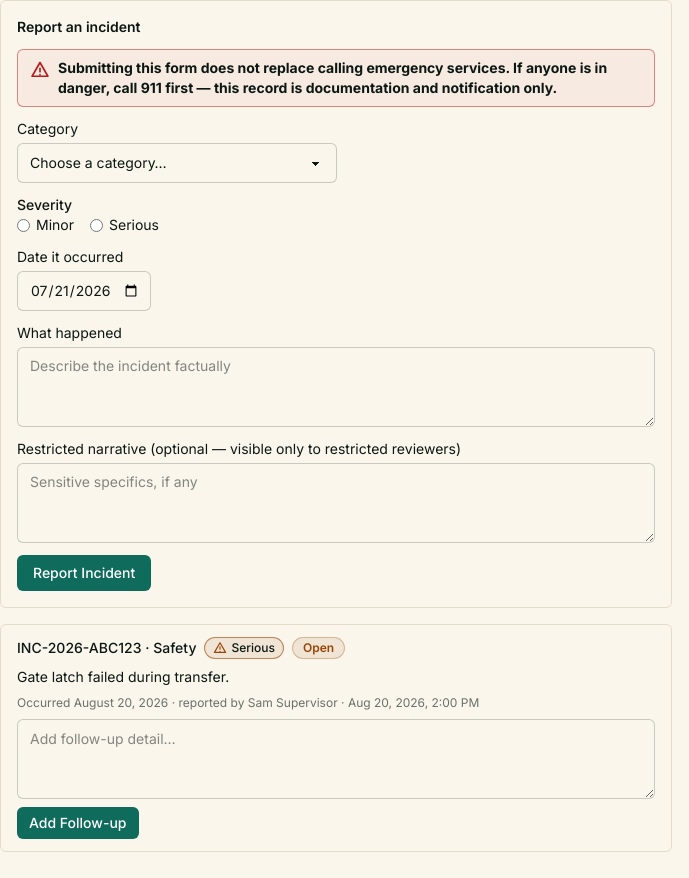
Test case: IncidentsTab (Story 5.11) › requires the extra confirmation for Serious severity before submit arms (AC1/UX)
Click the radio button labelled "Minor" at (24, 225), box [17, 218, 30, 232]
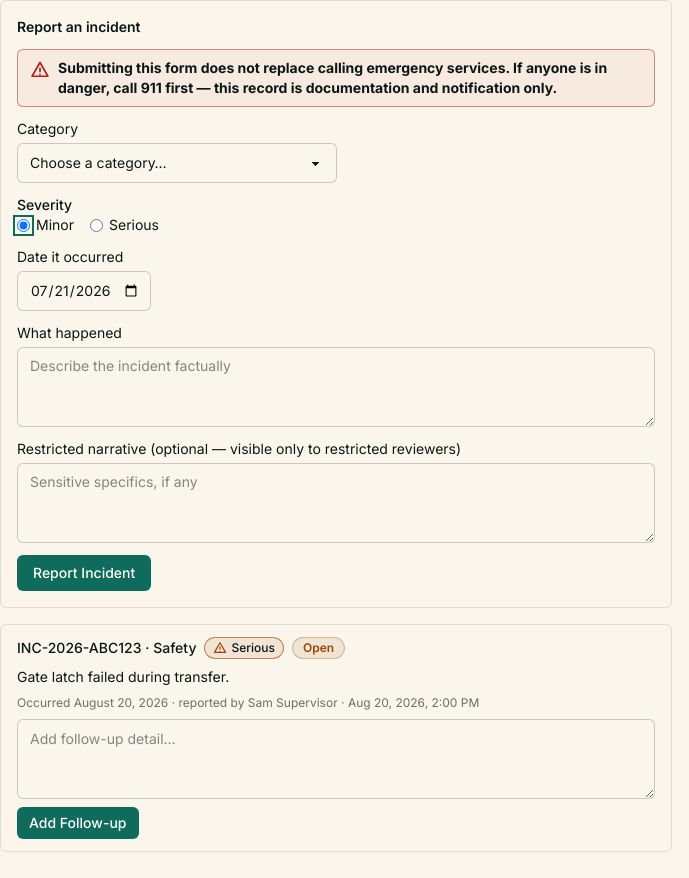
expect the button "Report Incident" is enabled: met, box [17, 555, 151, 591]
Click the radio button labelled "Serious" at (96, 225), box [90, 218, 103, 232]
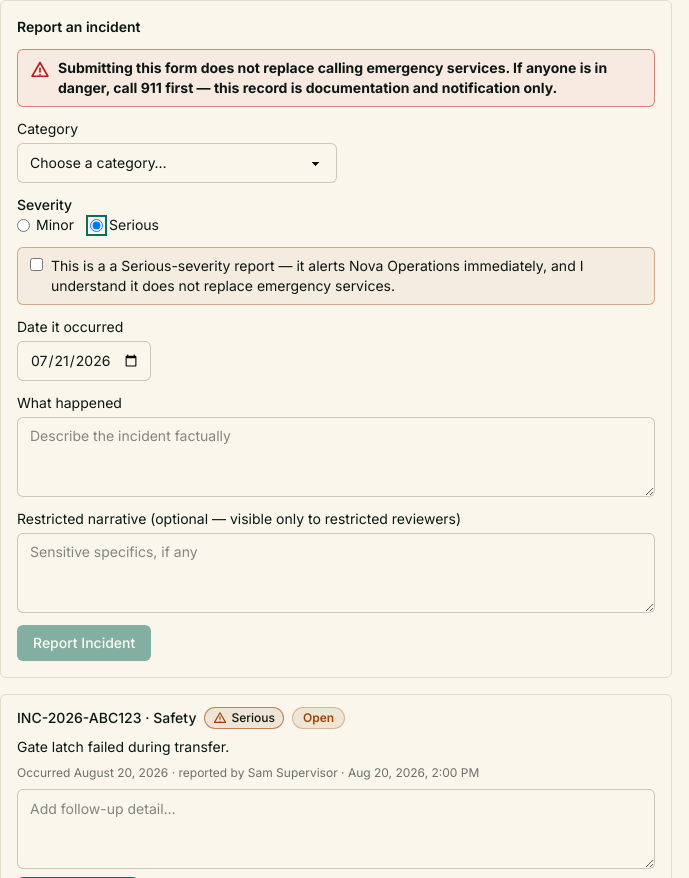
expect the button "Report Incident" is disabled: met, box [17, 625, 151, 661]
Click the checkbox labelled "alerts Nova Operations immediately" at (36, 264), box [30, 258, 43, 271]
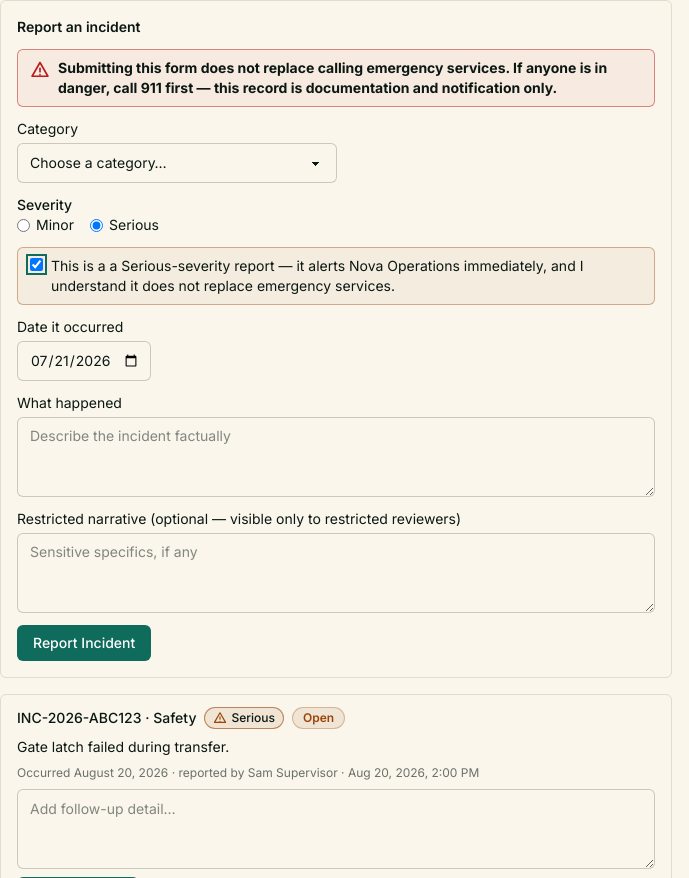
expect the button "Report Incident" is enabled: met, box [17, 625, 151, 661]
